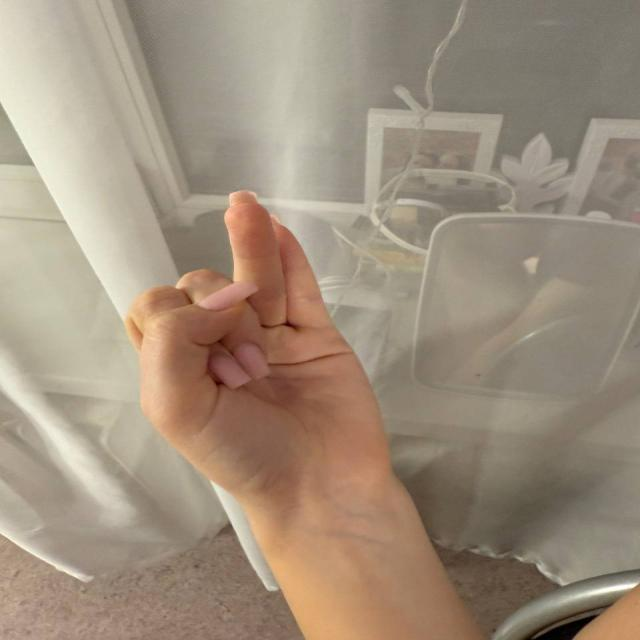i: (104, 174, 398, 454)
